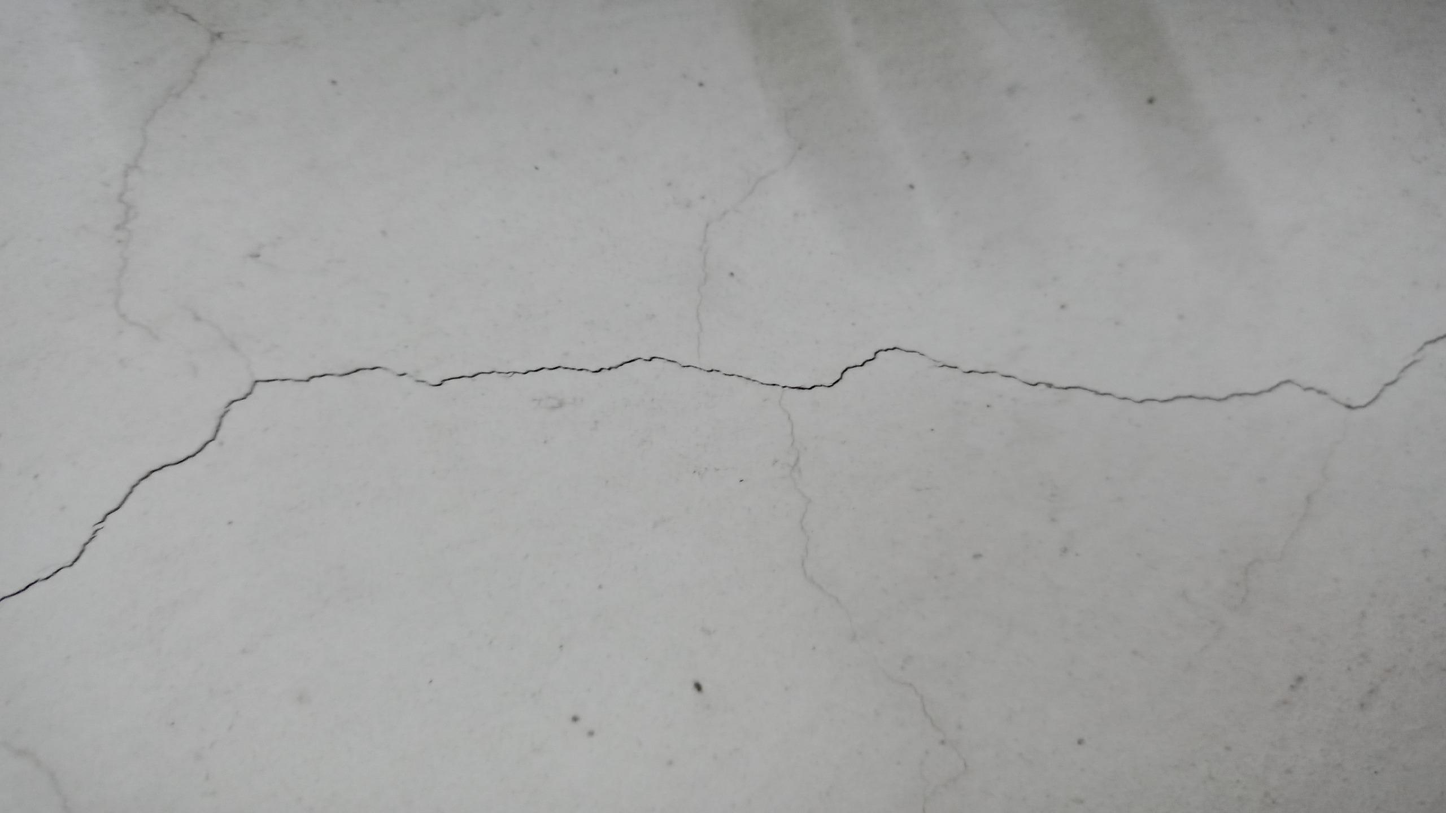crack: (0, 334, 1444, 603)
